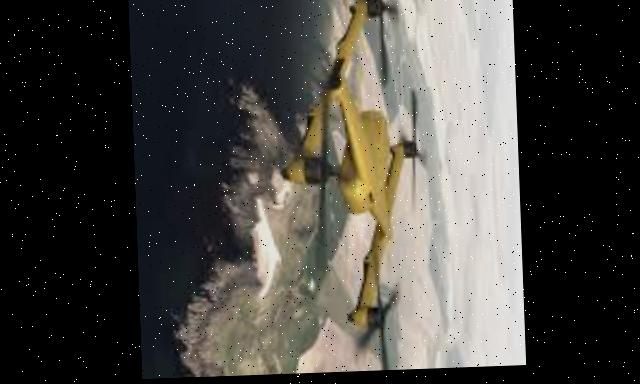drone: (276, 0, 435, 376)
